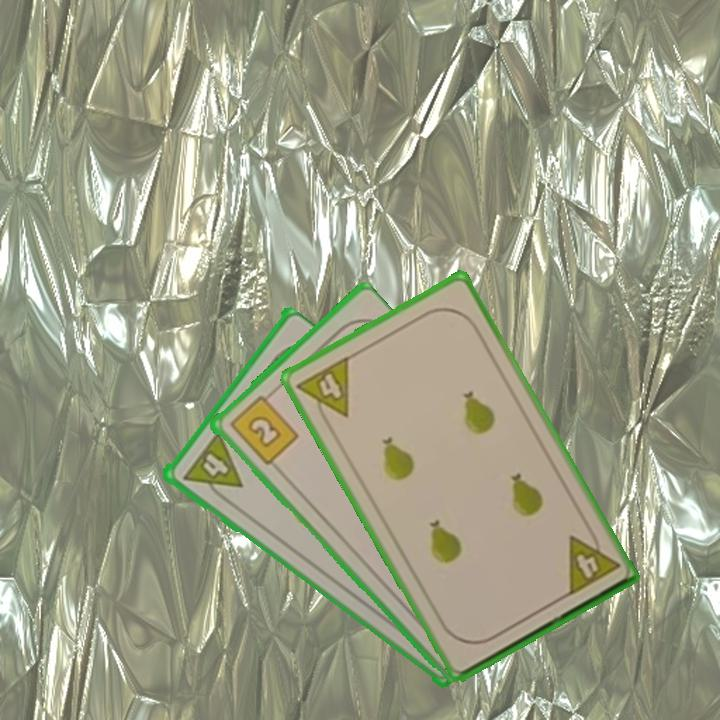2b: (225, 387, 301, 468)
4p: (178, 428, 245, 506), (561, 523, 622, 599), (293, 352, 352, 430)
